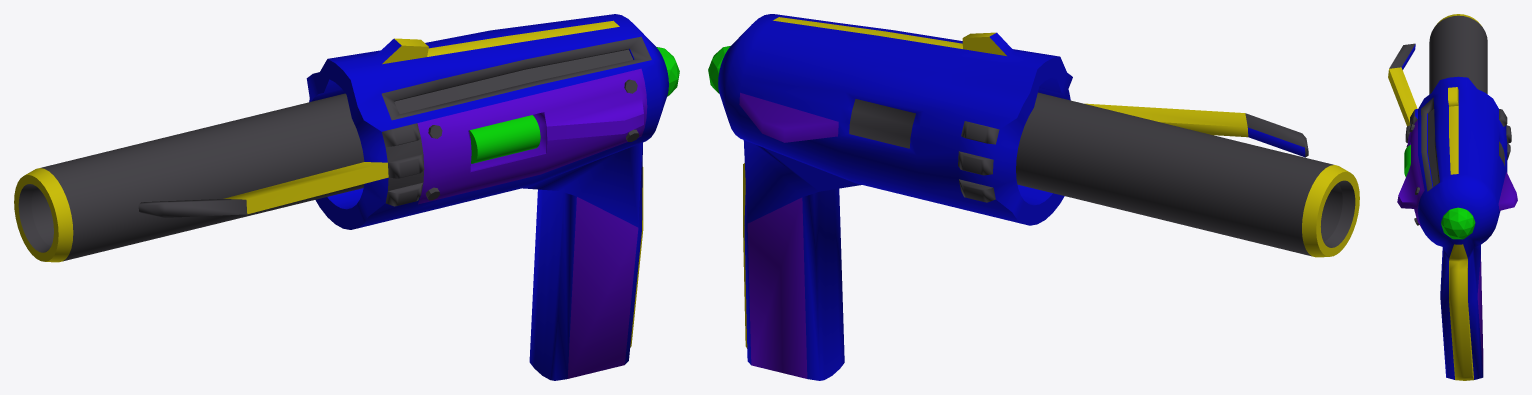
Rendered from gun2.obj.
3 views of the same model, side by side, from view 1: azimuth 30°, elevation 25°; view 2: azimuth 150°, elevation 25°; view 3: azimuth 270°, elevation 25° (orthographic). The views are drawn at different scales.
Visible parts, largest first — view 1: gun, barrel, enrgy; view 2: gun, barrel; view 3: gun, barrel, Icosphere, enrgy.
Part boxes in pixels (box(x1,y1,x2,y2)): gun: box(138, 14, 668, 380); barrel: box(14, 93, 364, 262); enrgy: box(469, 115, 540, 163); gun: box(718, 14, 1308, 380); barrel: box(1016, 92, 1359, 257); gun: box(1388, 43, 1517, 380); barrel: box(1429, 14, 1487, 94); Icosphere: box(1441, 207, 1475, 239); enrgy: box(1404, 145, 1410, 176).
Bounding box in the file's own units: 3.2 × 1.81 × 0.9331.
